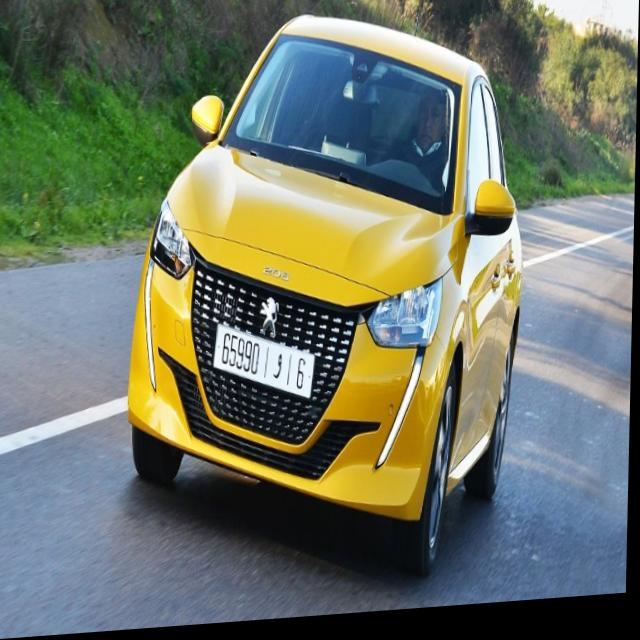License-Plate: (215, 327, 316, 403)
